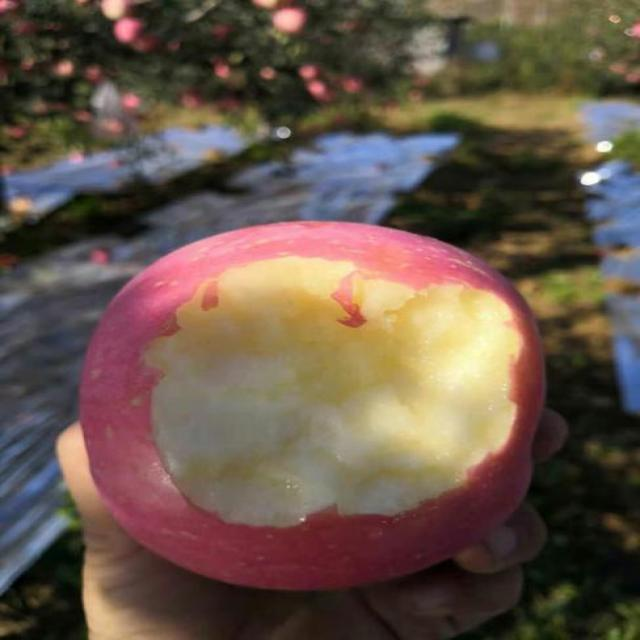Apple: (78, 213, 548, 593)
